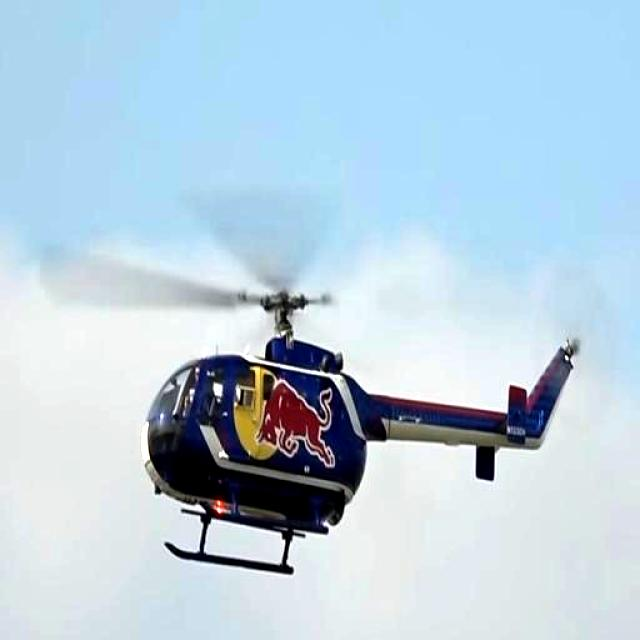drone: (90, 226, 582, 594)
